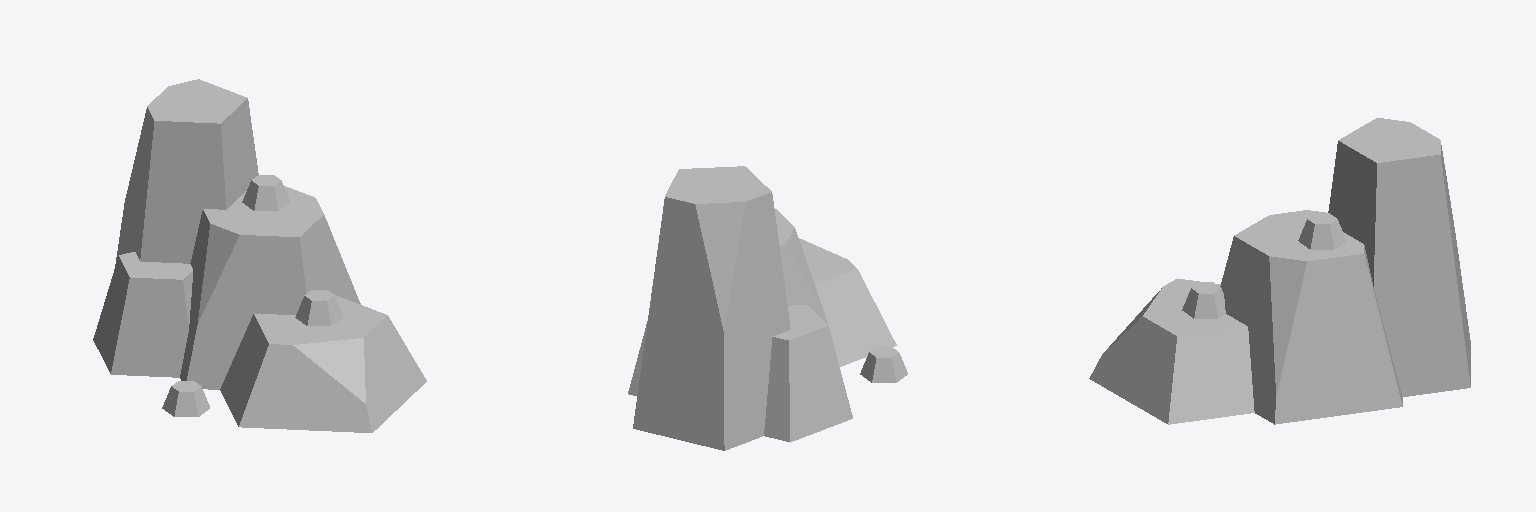
Rendered from rock-wide.obj.
3 renders of one model, left to right at view 1: azimuth 30°, elevation 25°; view 2: azimuth 150°, elevation 25°; view 3: azimuth 270°, elevation 25°, orthographic.
Parts seen in each view (by area): view 1: rock-wide; view 2: rock-wide; view 3: rock-wide.
Part boxes in pixels (x1,y1,x2,y2): rock-wide: (93, 79, 426, 432); rock-wide: (628, 166, 907, 450); rock-wide: (1089, 118, 1470, 424).
Bounding box in the file's own units: 1.09 × 1.02 × 1.57.